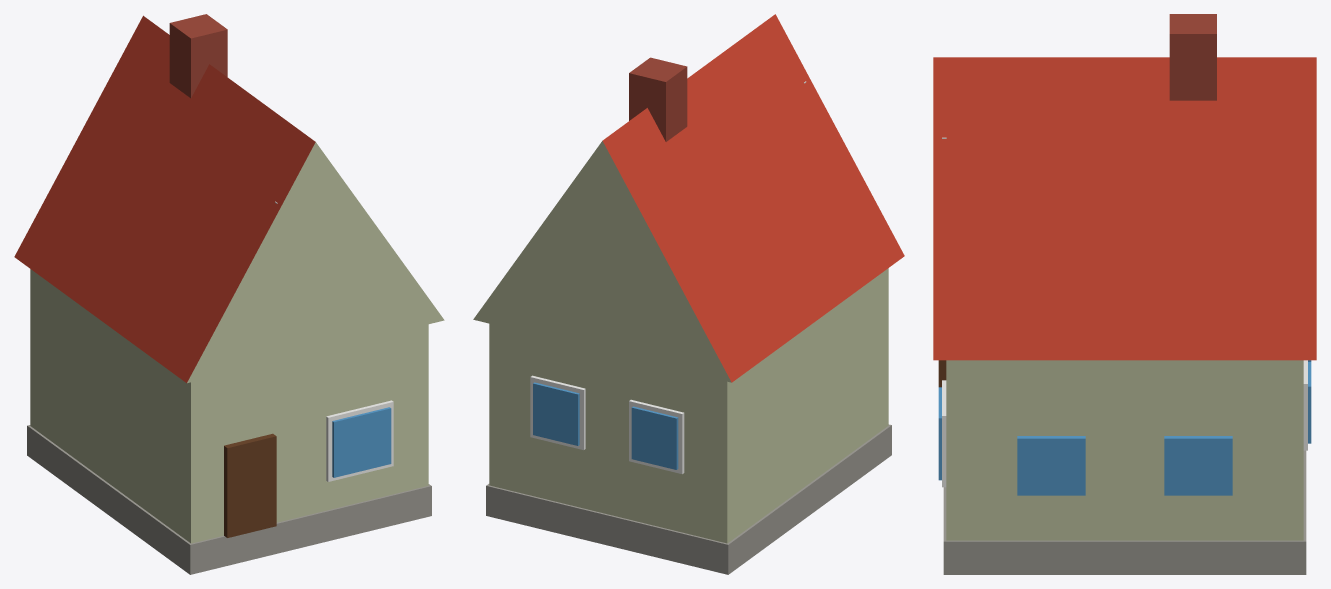
File: 45_konigsberg_suburban_2.obj
3 renders of one model, left to right at view 1: azimuth 30°, elevation 25°; view 2: azimuth 150°, elevation 25°; view 3: azimuth 270°, elevation 25°, orthographic. The views are drawn at different scales.
Parts seen in each view (by area): view 1: 45_konigsberg_suburban_2; view 2: 45_konigsberg_suburban_2; view 3: 45_konigsberg_suburban_2.
Part boxes in pixels (x1,y1,x2,y2): 45_konigsberg_suburban_2: (14,14,444,574); 45_konigsberg_suburban_2: (473,14,904,574); 45_konigsberg_suburban_2: (933,14,1316,574).
Bounding box in the file's own units: 1.26 × 2.04 × 1.46.
